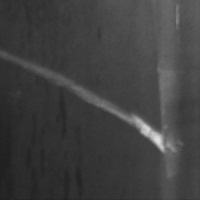scratches: (3, 52, 180, 157)
